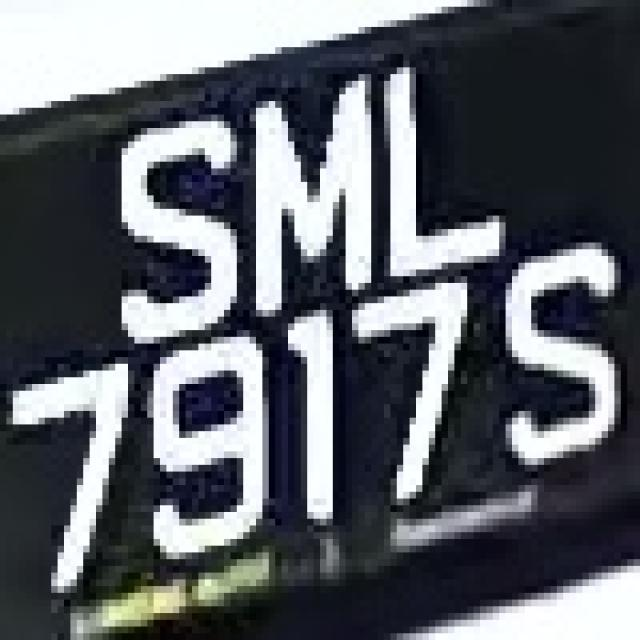1: (268, 290, 346, 539)
7: (7, 350, 148, 613), (352, 283, 486, 532)
9: (147, 337, 269, 572)
L: (352, 47, 499, 283)
M: (230, 81, 384, 310)
S: (487, 209, 628, 492), (102, 94, 237, 364)
